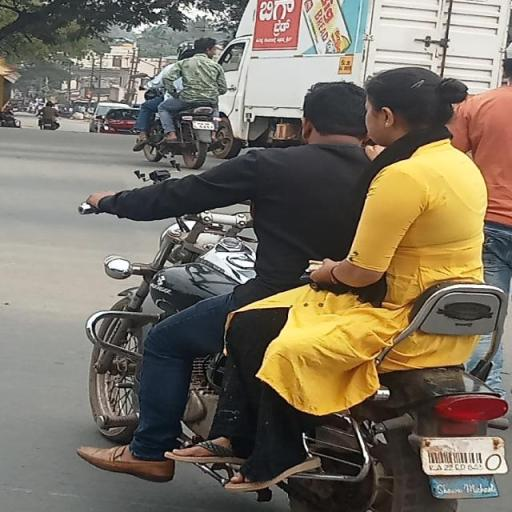bike: (70, 60, 504, 512)
withouthelmet: (372, 69, 453, 144), (306, 83, 368, 141)
